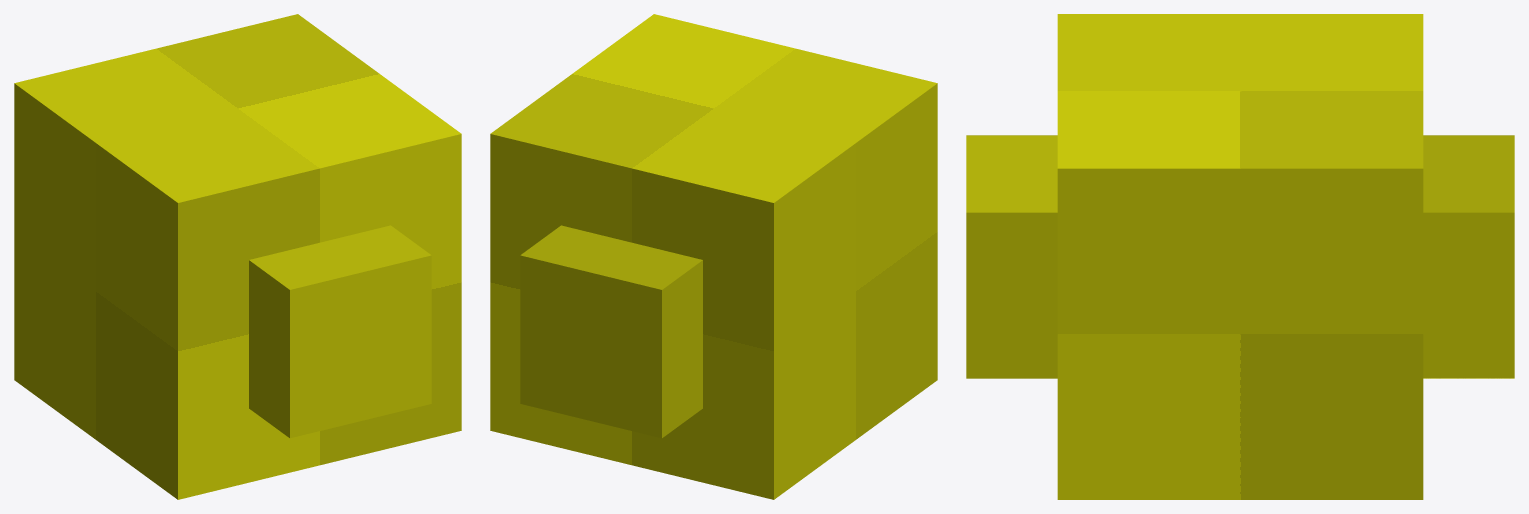
The model's file is lemon.gltf.
3 views of the same model, side by side, from view 1: azimuth 30°, elevation 25°; view 2: azimuth 150°, elevation 25°; view 3: azimuth 270°, elevation 25° (orthographic). The views are drawn at different scales.
Visible parts, largest first — view 1: cube (×2); view 2: cube (×2); view 3: cube (×2).
Part boxes in pixels (bbox=[...]): cube (×2): bbox=[14, 14, 461, 499]; cube (×2): bbox=[490, 14, 937, 499]; cube (×2): bbox=[966, 14, 1514, 499].
Bounding box in the file's own units: 0.125 × 0.125 × 0.1875.
1 material, 1 textured.
